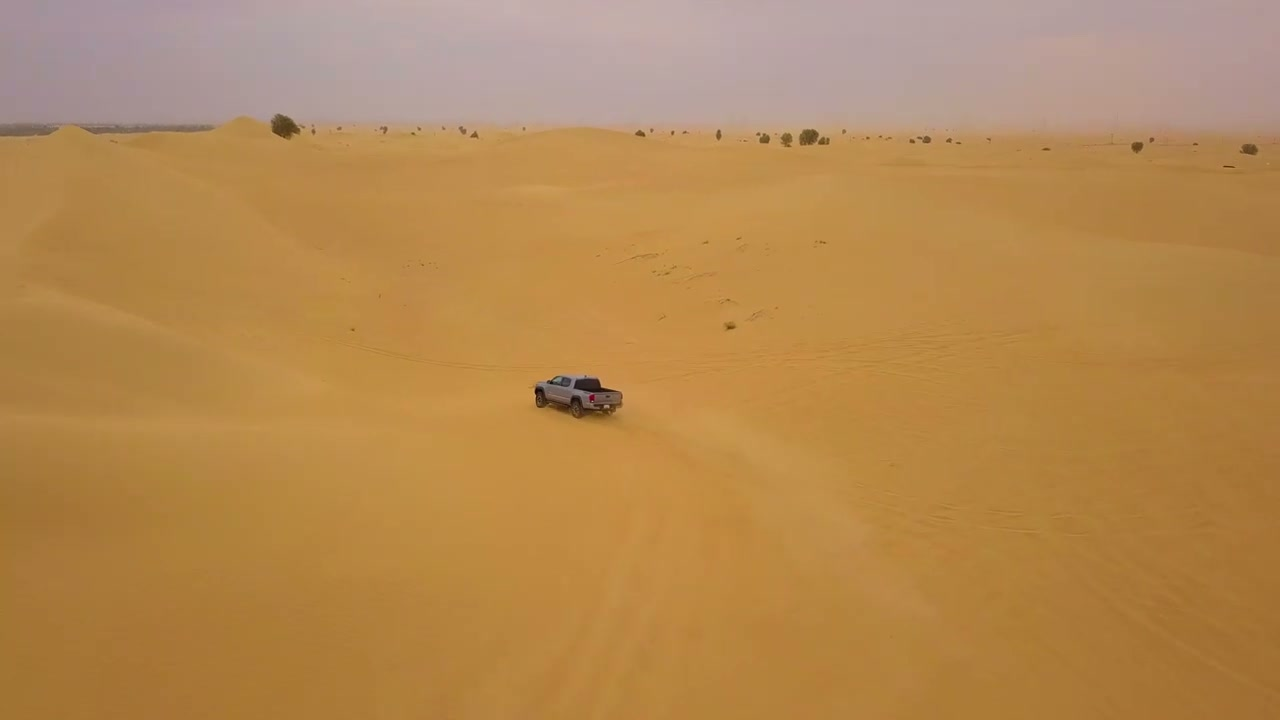vehicle_track: (1000, 497, 1279, 713)
